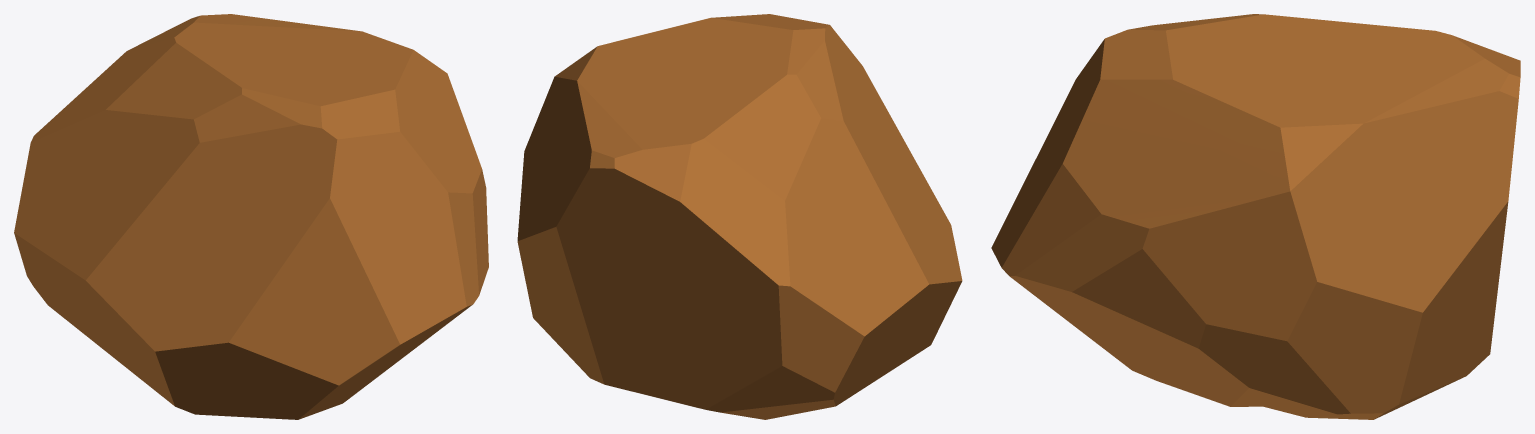
The model's file is HardRock_47.fbx.
3 views of the same model, side by side, from view 1: azimuth 30°, elevation 25°; view 2: azimuth 150°, elevation 25°; view 3: azimuth 270°, elevation 25° (orthographic). The views are drawn at different scales.
Parts seen in each view (by area): view 1: HardRock_47; view 2: HardRock_47; view 3: HardRock_47.
Part boxes in pixels (bbox=[...]): HardRock_47: bbox=[14, 14, 488, 419]; HardRock_47: bbox=[517, 14, 962, 419]; HardRock_47: bbox=[991, 14, 1520, 419].
Size of the model in its own units: 76.61 by 55.45 by 77.8.
